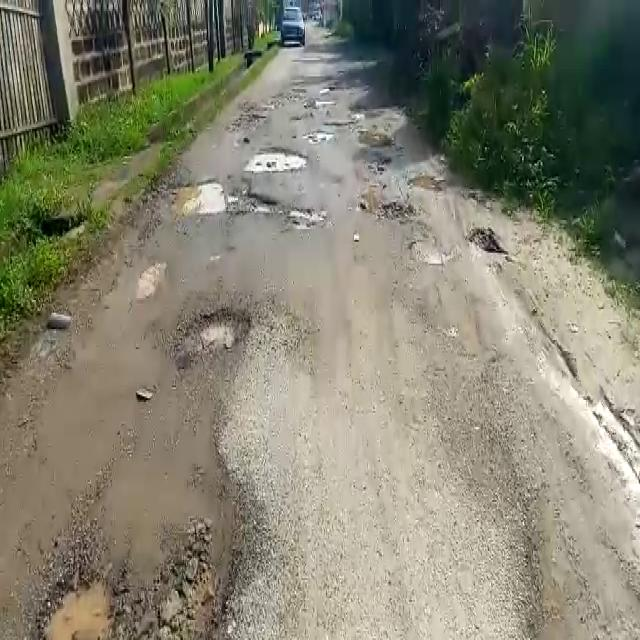Pothole: (33, 566, 124, 640), (172, 301, 252, 361), (171, 182, 278, 217), (243, 146, 313, 173), (285, 202, 327, 230)
